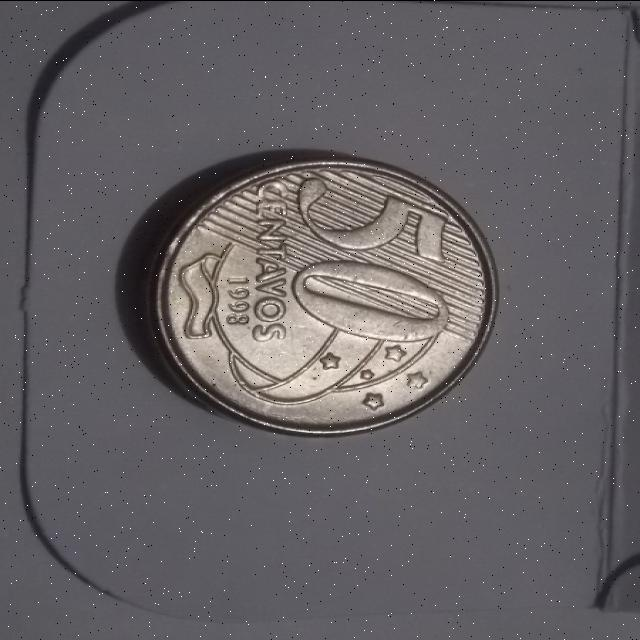50 cent: (154, 166, 500, 434)
